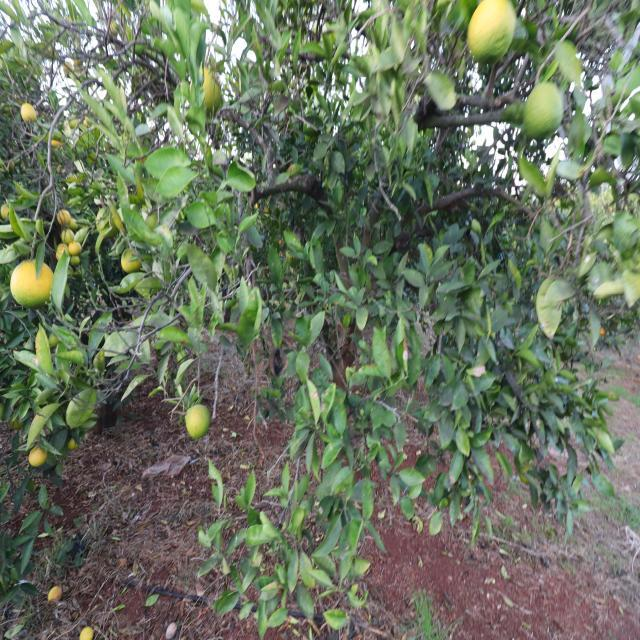Jeruk Belum Matang: (468, 0, 516, 65), (526, 84, 564, 139), (11, 258, 54, 305), (194, 68, 221, 110), (186, 406, 210, 438), (96, 208, 119, 240), (122, 247, 142, 274), (28, 447, 47, 467), (144, 211, 160, 230), (9, 414, 24, 429), (68, 116, 80, 129), (69, 219, 79, 231), (70, 254, 80, 266), (0, 401, 6, 421), (68, 438, 78, 449)
Jeruk Sudah Matang: (20, 103, 36, 123), (56, 244, 70, 263), (57, 210, 70, 227), (1, 203, 11, 219), (69, 242, 81, 255), (62, 230, 73, 243)
